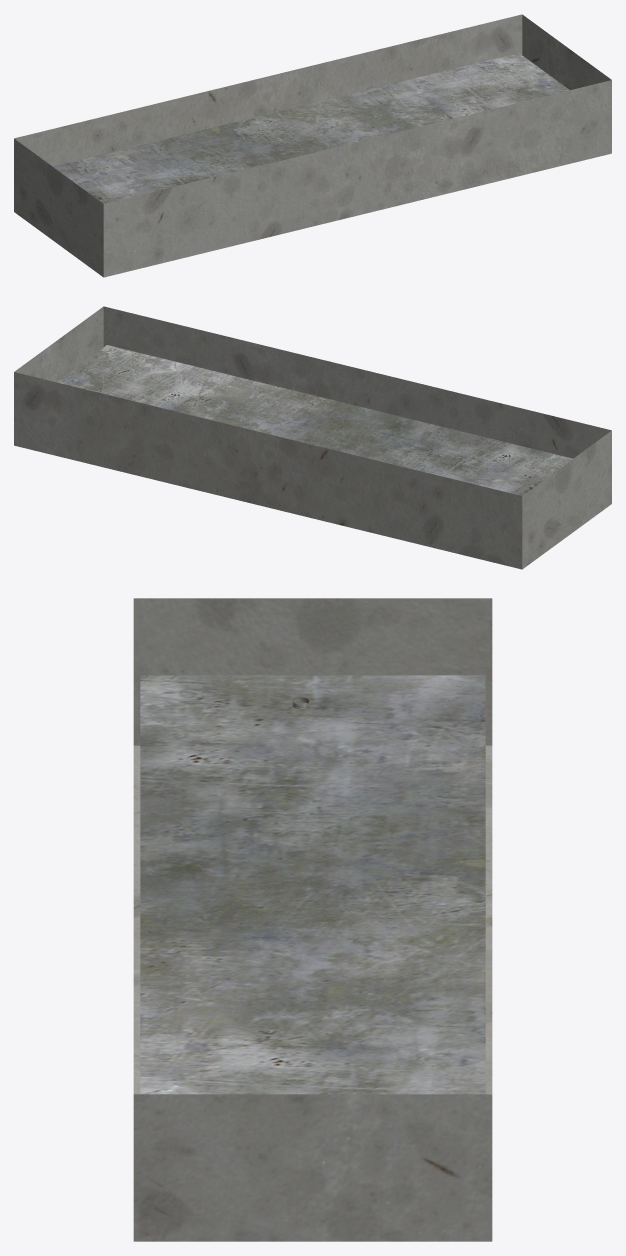
Rendered from Light_Fluor_B2.fbx.
3 renders of one model, top to bottom at view 1: azimuth 30°, elevation 25°; view 2: azimuth 150°, elevation 25°; view 3: azimuth 270°, elevation 25°, orthographic. The views are drawn at different scales.
Visible parts, largest first — view 1: Light_Fluor_B2; view 2: Light_Fluor_B2; view 3: Light_Fluor_B2.
Part boxes in pixels (x1,y1,x2,y2): Light_Fluor_B2: (14,14,611,277); Light_Fluor_B2: (14,306,611,569); Light_Fluor_B2: (133,598,492,1241).
Bounding box in the file's own units: 1.63 × 0.226 × 0.4994.
